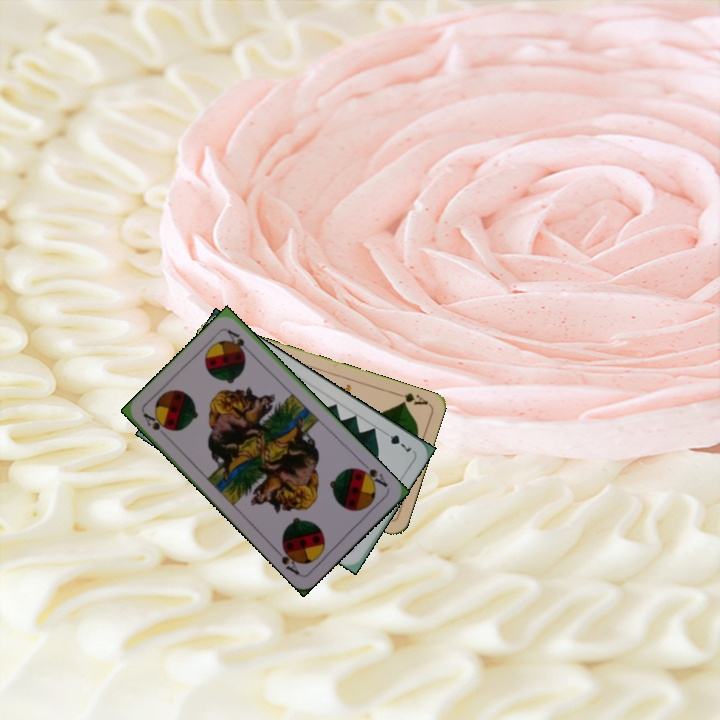G7: (378, 428, 414, 455)
GA: (391, 388, 431, 408)
SA: (354, 464, 391, 490), (139, 408, 172, 433)
